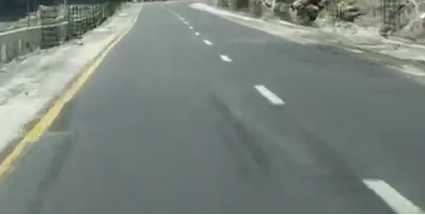left: (157, 32, 425, 195)
